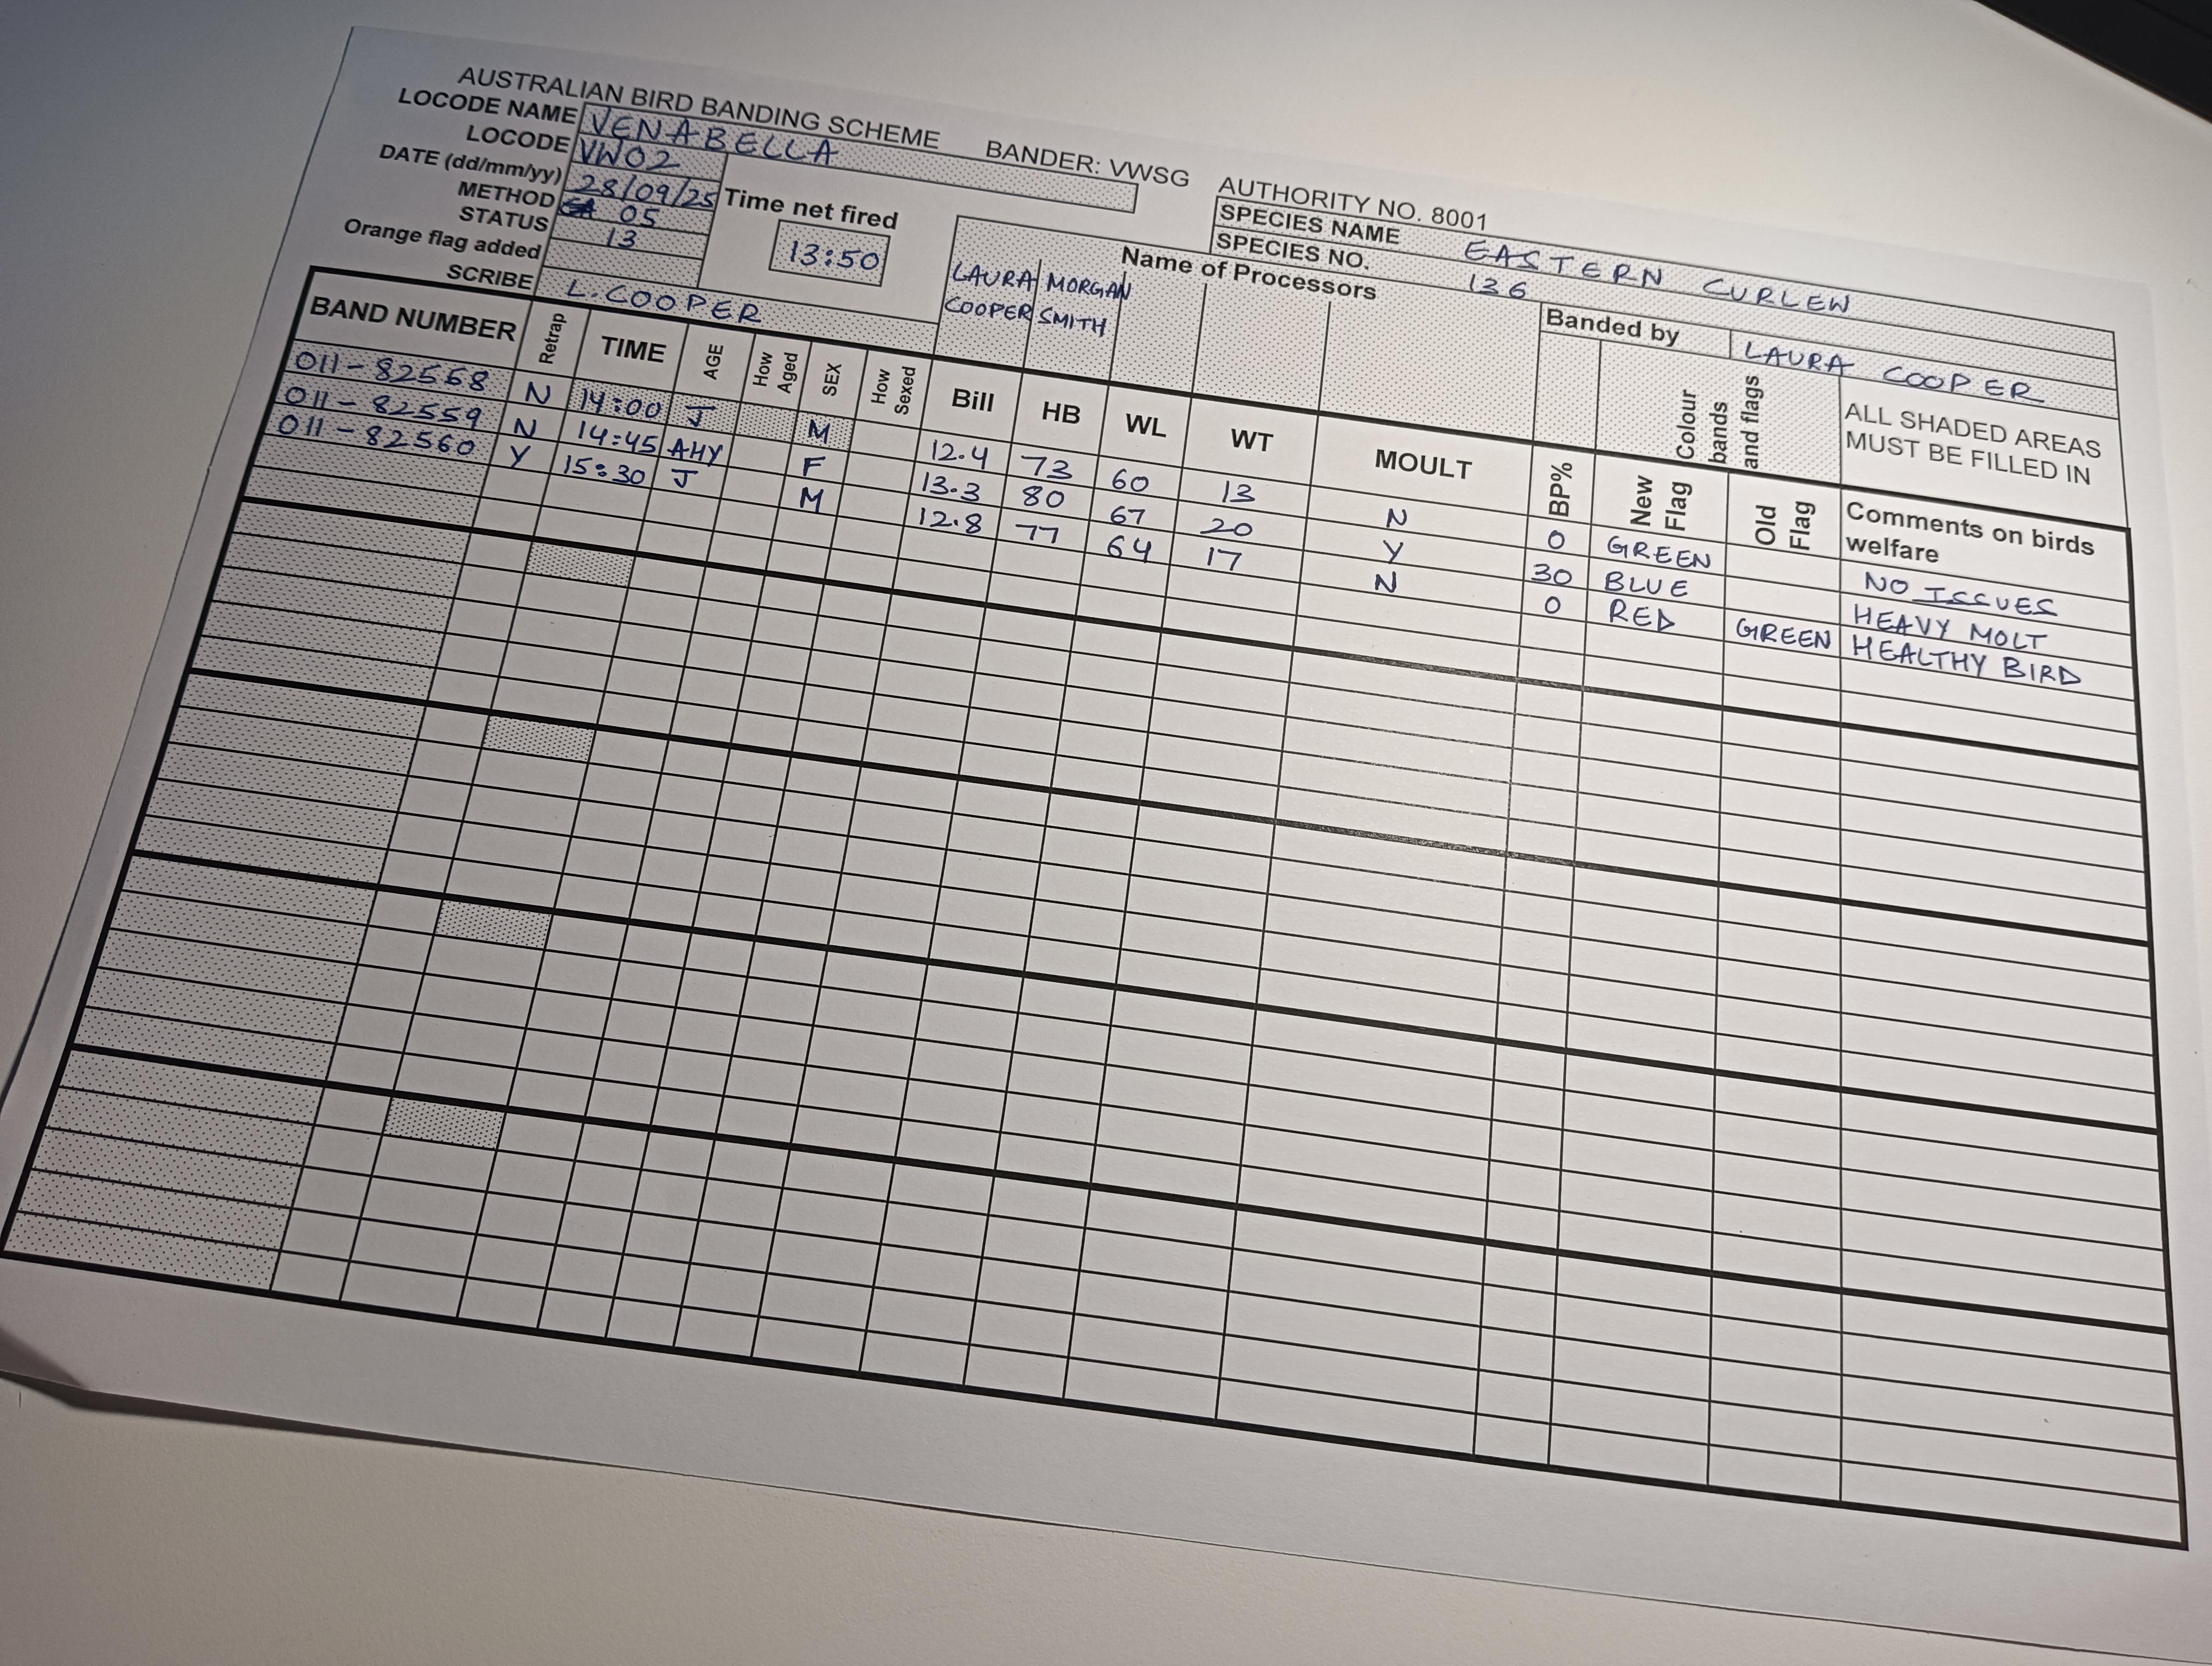BANDED_BY: (1544, 305, 2119, 416)
DATA: (262, 402, 2142, 702), (273, 367, 2137, 668), (276, 338, 2135, 637)
DATE: (360, 129, 729, 215)
LOCOCODE: (451, 119, 755, 187)
LOCOCODE_NAME: (395, 73, 1163, 221)
METHOD: (446, 177, 733, 240)
NAME_OF_PROCESSORS: (929, 215, 1046, 369), (1023, 229, 1131, 383)
ORANGE_FLAG_ADDED: (334, 208, 729, 289)
SCRIBE: (437, 256, 943, 354)
SPECIES_NAME: (1217, 199, 2114, 362)
SPECIES_NO: (1212, 224, 2119, 385)
STATUS: (448, 199, 724, 262)
TIME_NET_FIRED: (719, 182, 925, 297)
